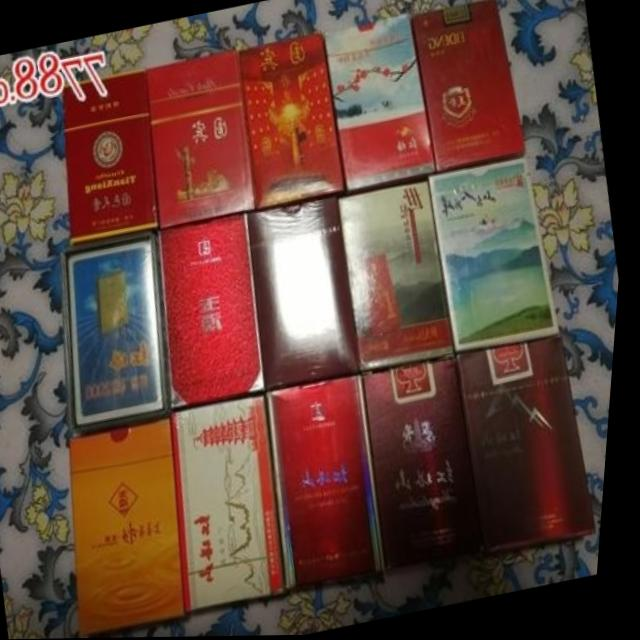box: (464, 337, 605, 553), (370, 358, 493, 573), (76, 418, 195, 635), (432, 158, 565, 351), (178, 398, 292, 612), (274, 378, 389, 590), (342, 181, 461, 372), (250, 198, 367, 391), (65, 232, 177, 433), (162, 214, 270, 408), (146, 49, 258, 227), (411, 0, 528, 170), (239, 30, 348, 212), (327, 17, 440, 190), (62, 71, 161, 243)
